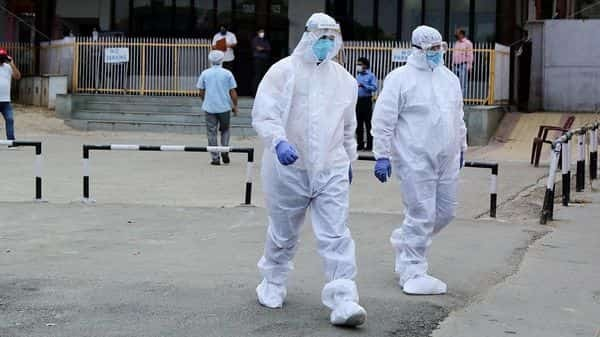Coverall: (249, 10, 360, 297), (369, 23, 467, 279)
Gloves: (274, 138, 300, 167), (371, 156, 394, 185)
with_mask: (311, 34, 336, 62), (426, 45, 442, 68)
